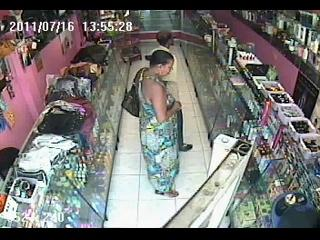Normal: (136, 48, 192, 198), (122, 67, 148, 118)
